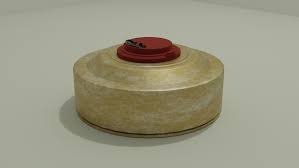car: (56, 14, 243, 155)
